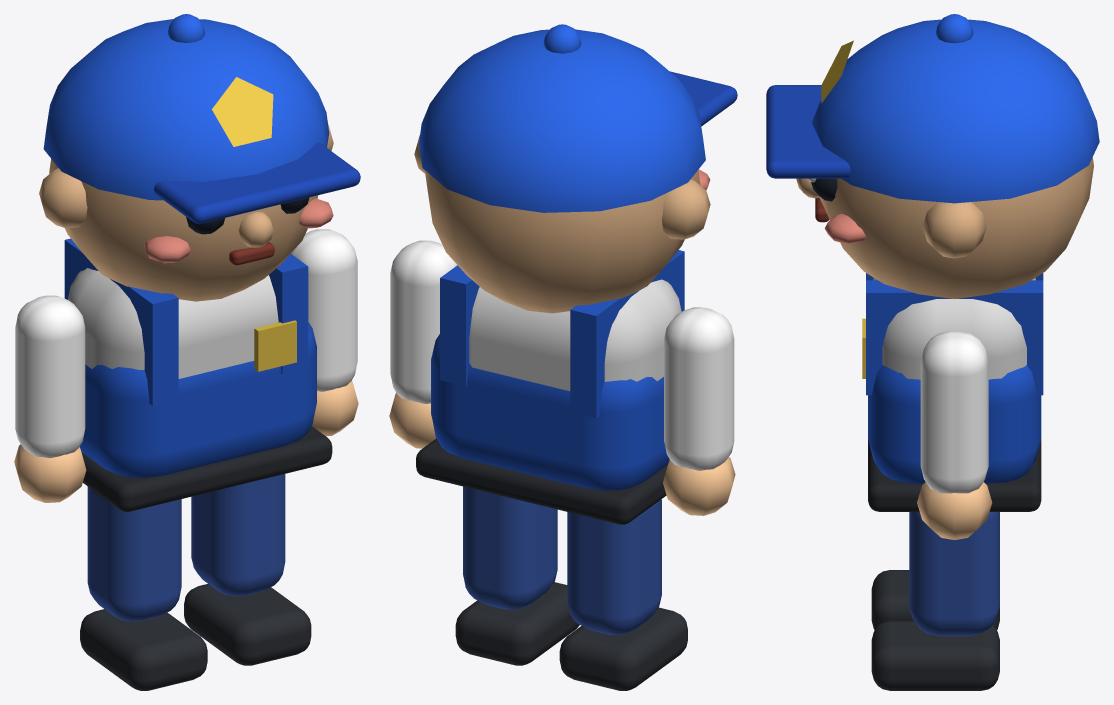
Rendered from person_manager.glb.
3 views of the same model, side by side, from view 1: azimuth 30°, elevation 25°; view 2: azimuth 150°, elevation 25°; view 3: azimuth 270°, elevation 25° (orthographic).
Parts seen in each view (by area): view 1: Torso, Hat, LegL, LegR, ArmL, ArmR; view 2: Torso, Hat, LegL, LegR, ArmL, ArmR; view 3: Torso, Hat, LegR, ArmR, LegL.
Boxes of the visible parts, x1=… form: Torso: x1=39, y1=124, x2=333, y2=511; Hat: x1=43, y1=14, x2=360, y2=223; LegL: x1=80, y1=486, x2=207, y2=690; LegR: x1=184, y1=474, x2=311, y2=665; ArmL: x1=14, y1=295, x2=86, y2=502; ArmR: x1=291, y1=229, x2=358, y2=436; Torso: x1=414, y1=134, x2=710, y2=524; Hat: x1=419, y1=24, x2=737, y2=212; LegL: x1=559, y1=499, x2=687, y2=690; LegR: x1=455, y1=486, x2=579, y2=665; ArmL: x1=663, y1=307, x2=735, y2=515; ArmR: x1=389, y1=240, x2=457, y2=448; Torso: x1=796, y1=157, x2=1093, y2=511; Hat: x1=766, y1=14, x2=1099, y2=203; LegR: x1=871, y1=512, x2=999, y2=690; ArmR: x1=917, y1=331, x2=992, y2=539; LegL: x1=871, y1=570, x2=999, y2=629.
Bounding box in the file's own units: 1.04 × 1.86 × 0.885.
